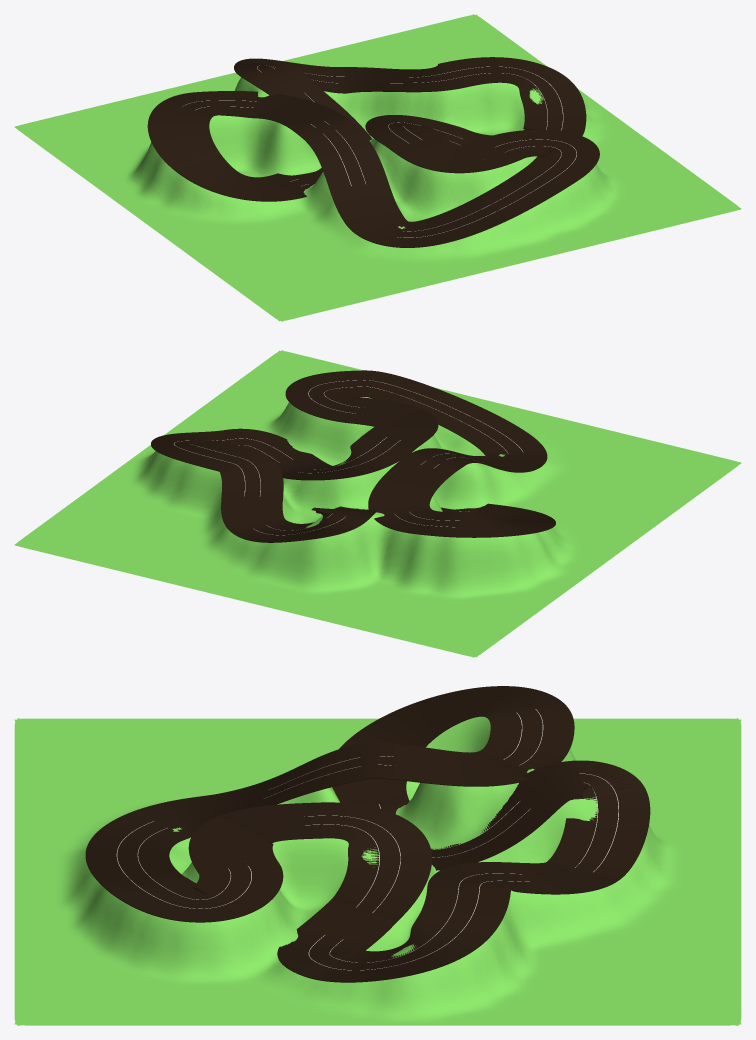
File: VeryGood.fbx
3 renders of one model, top to bottom at view 1: azimuth 30°, elevation 25°; view 2: azimuth 150°, elevation 25°; view 3: azimuth 270°, elevation 25°, orthographic. The views are drawn at different scales.
Parts seen in each view (by area): view 1: Ground, ThickRoad, Road; view 2: Ground, ThickRoad, Road; view 3: Ground, ThickRoad, Road.
Boxes of the visible parts, <box> form: Ground: <box>14,14,741,321</box>; ThickRoad: <box>147,57,599,247</box>; Road: <box>182,65,576,237</box>; Ground: <box>14,350,741,657</box>; ThickRoad: <box>151,370,555,542</box>; Road: <box>174,380,523,535</box>; Ground: <box>14,716,741,1025</box>; ThickRoad: <box>85,686,650,982</box>; Road: <box>116,709,618,970</box>.
Bounding box in the file's own units: 50866 × 5784 × 50866.
